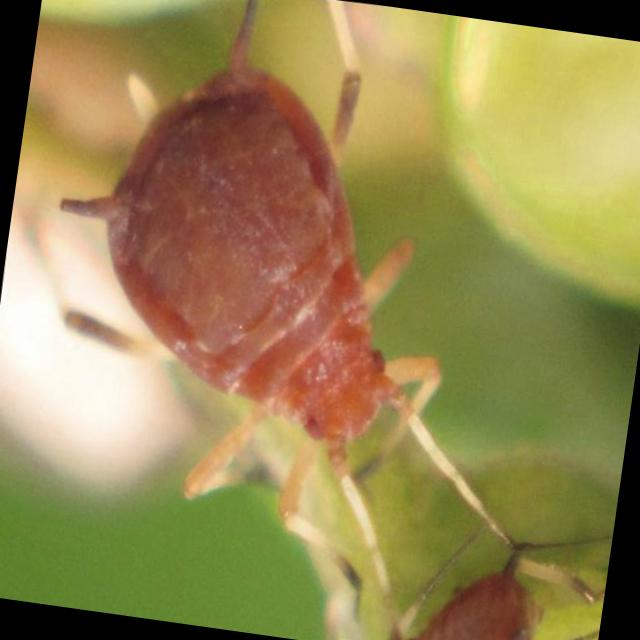aphid: (0, 0, 546, 607)
